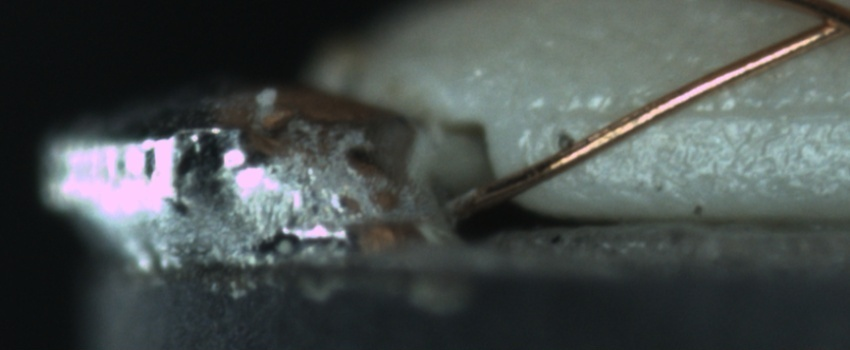CL: (791, 1, 850, 46)
DL: (541, 80, 850, 144)
